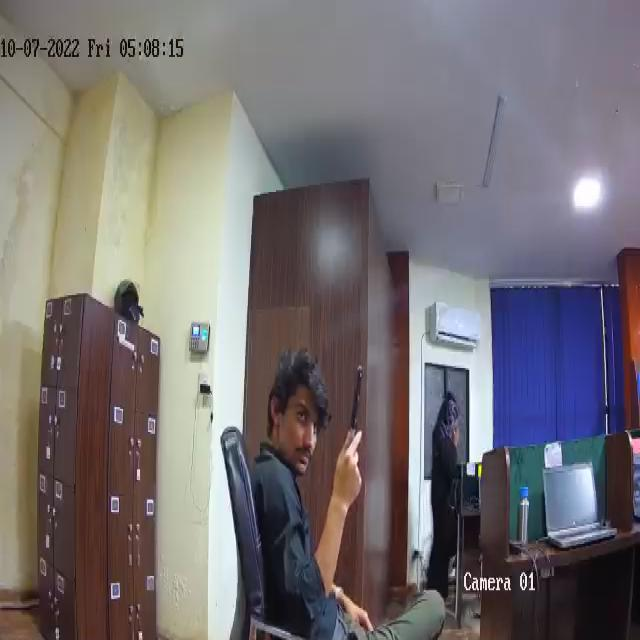Knife: (348, 361, 365, 455)
